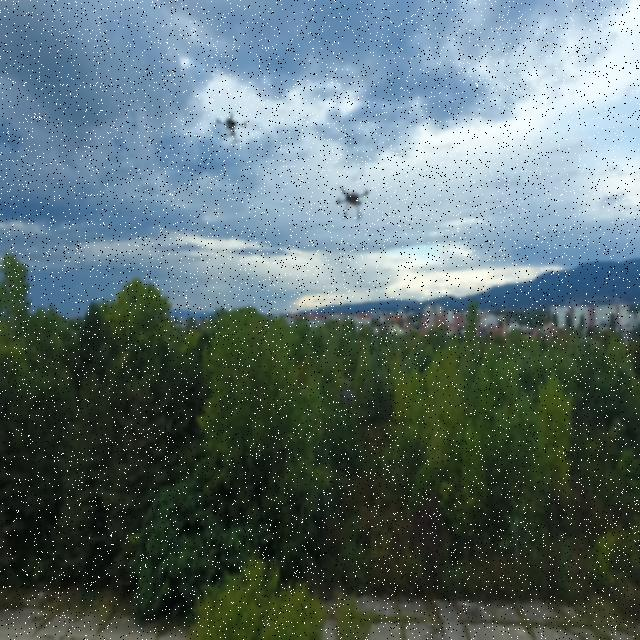UAV: (330, 176, 374, 224), (215, 108, 250, 150)
